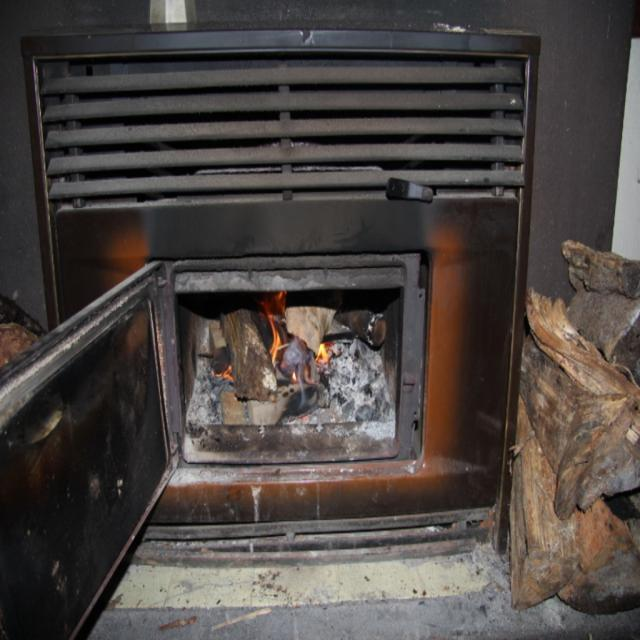Fire: (202, 288, 363, 398)
